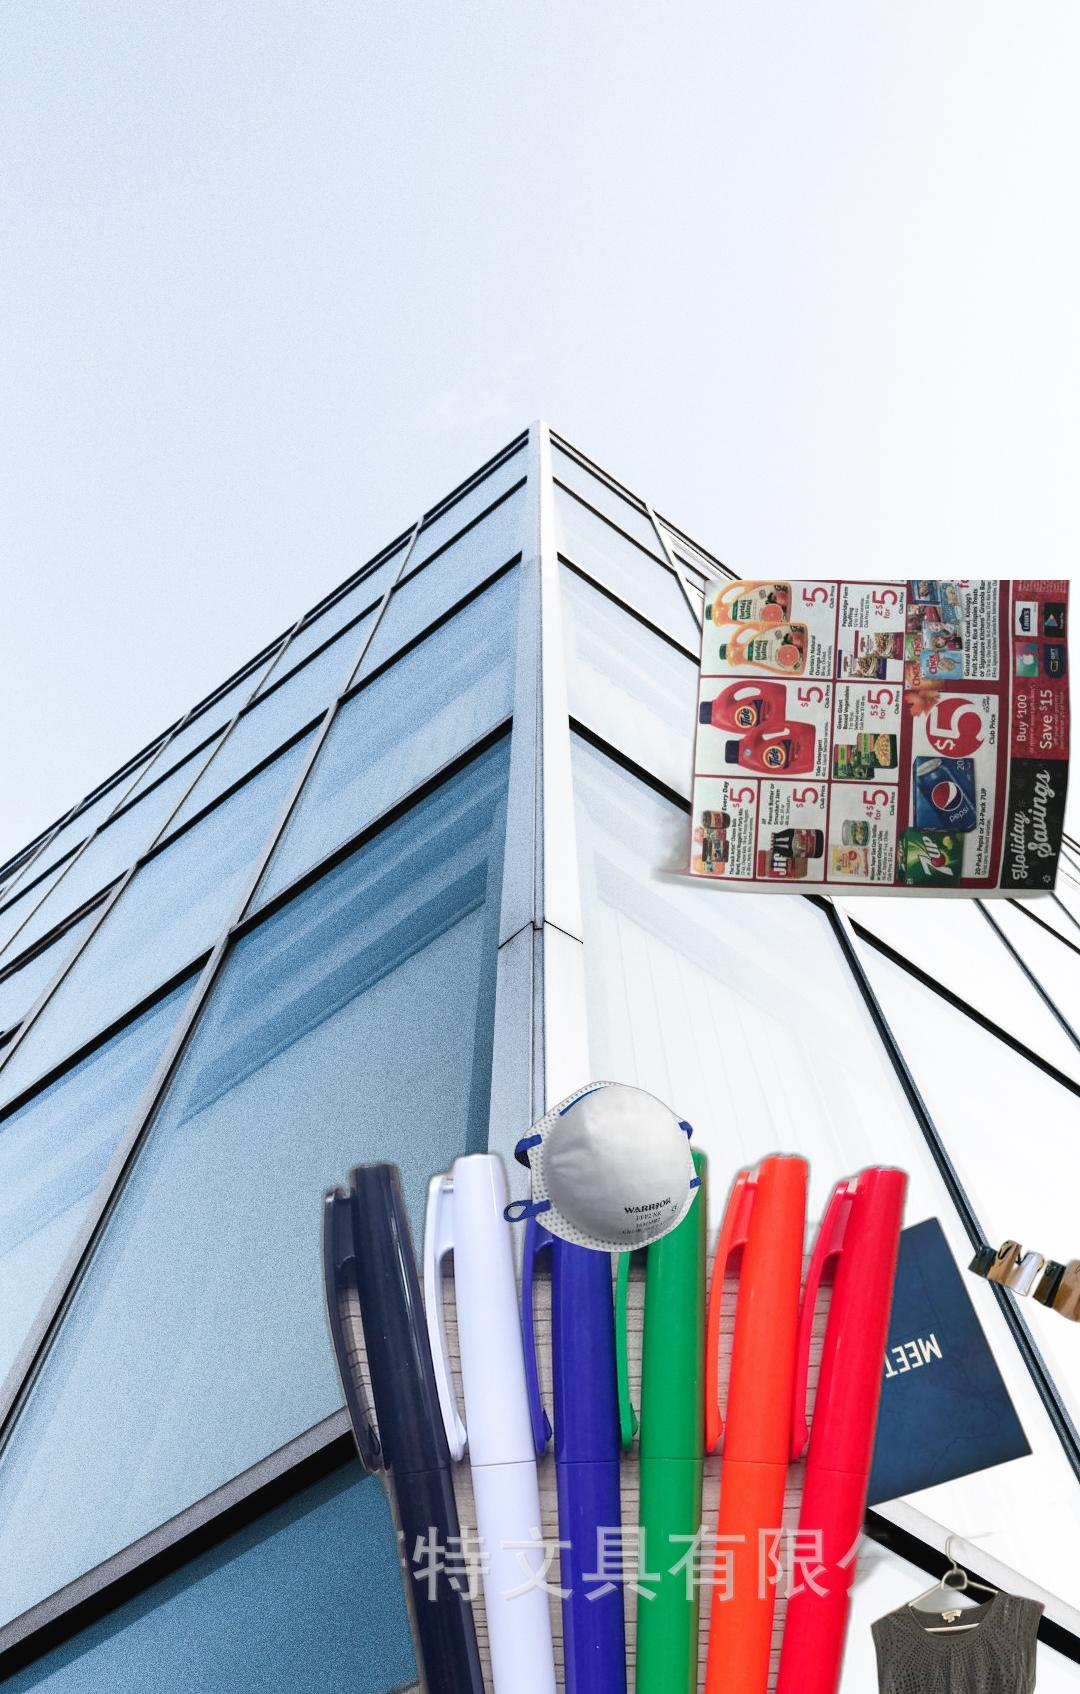clothes: (868, 1532, 1048, 1694)
paper: (570, 1212, 1036, 1571), (647, 580, 1075, 952)
paper-bag: (965, 1237, 1080, 1345)
penholder: (314, 1138, 989, 1694)
trash: (500, 1079, 705, 1254)
